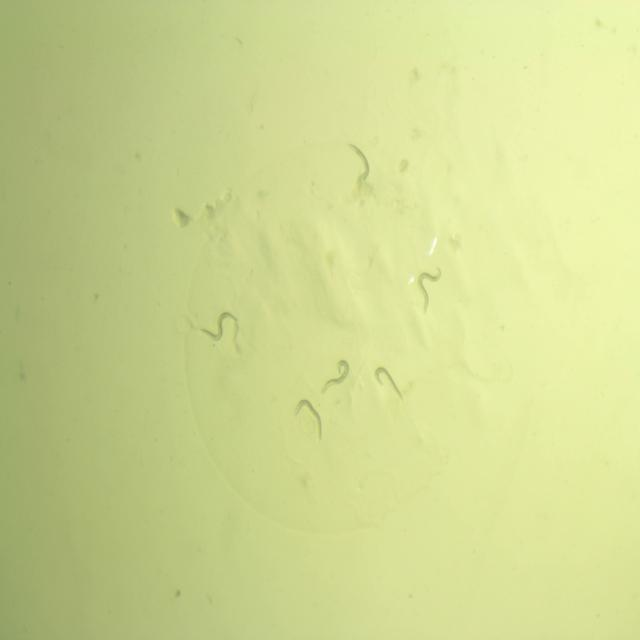worm: (293, 397, 324, 444), (415, 264, 443, 315), (199, 308, 238, 344), (318, 357, 351, 398), (374, 362, 404, 402), (348, 143, 370, 190)
